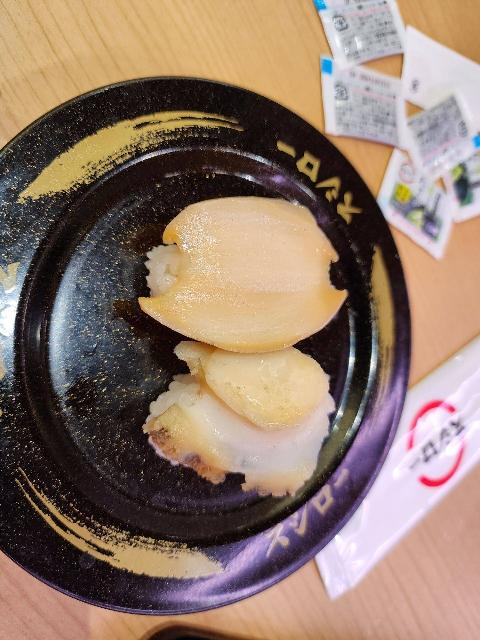janback: (0, 140, 139, 629), (2, 77, 388, 196), (324, 190, 426, 566), (137, 501, 353, 614)
